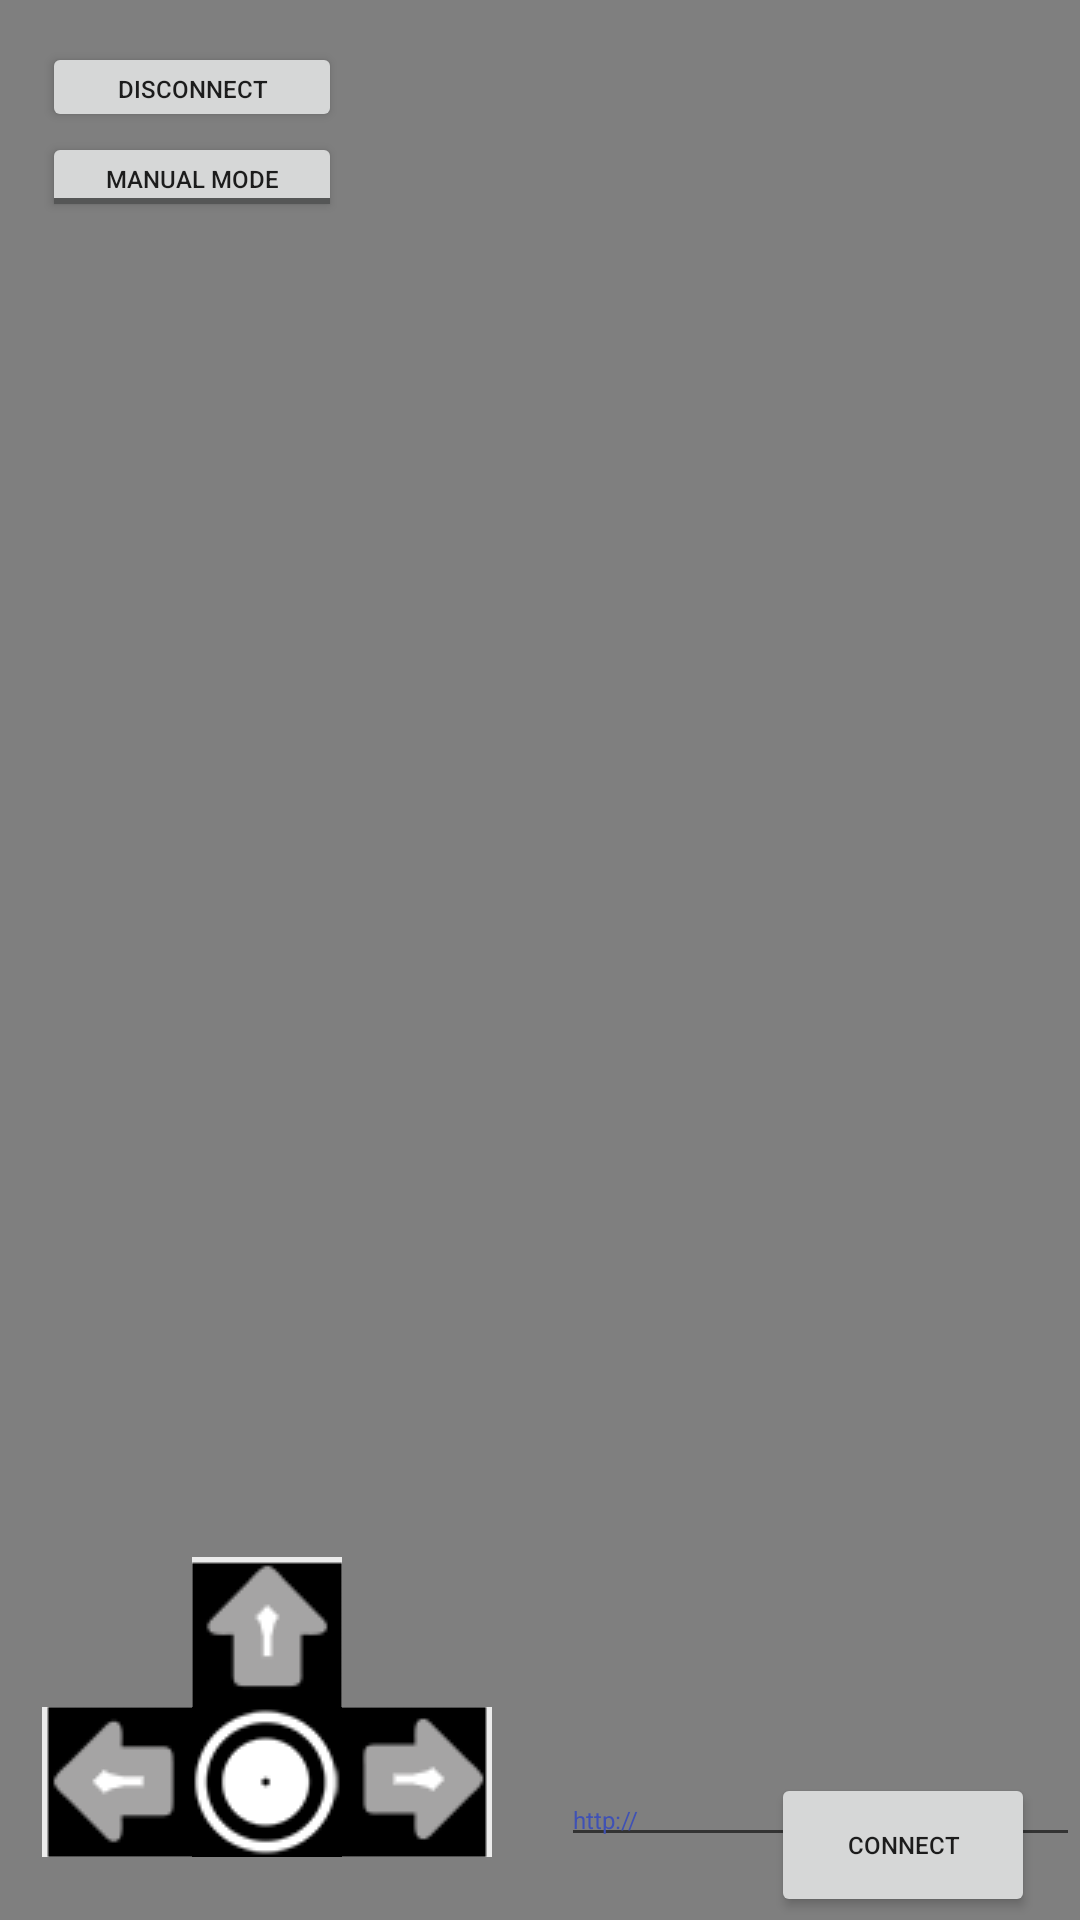

Locate icon controls on the screen. Image size 1080px x 1920px, boxes as (x1, y1, x2, y2).
center: (194, 1709, 340, 1855)
left: (42, 1707, 192, 1857)
right: (342, 1707, 492, 1857)
